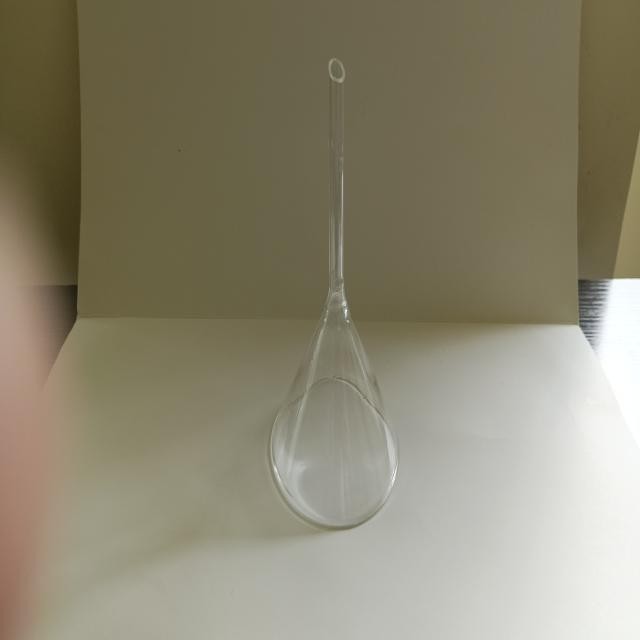funnel: (269, 53, 404, 534)
